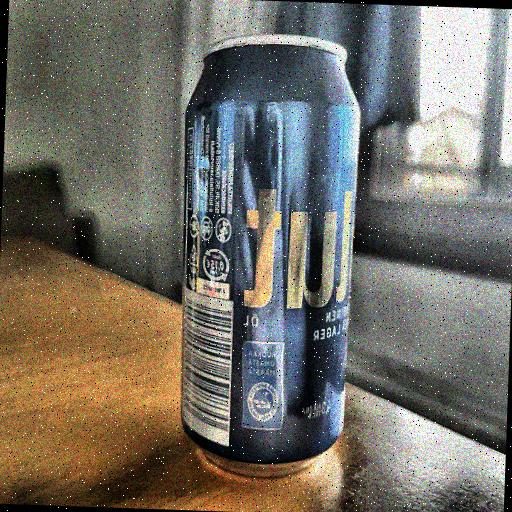koti: (150, 14, 380, 491)
